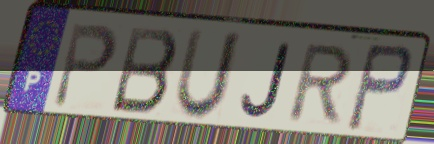B: (108, 24, 181, 118)
J: (238, 41, 293, 121)
P: (343, 41, 415, 135), (49, 21, 120, 111)
R: (282, 42, 356, 127)
U: (171, 26, 247, 124)
